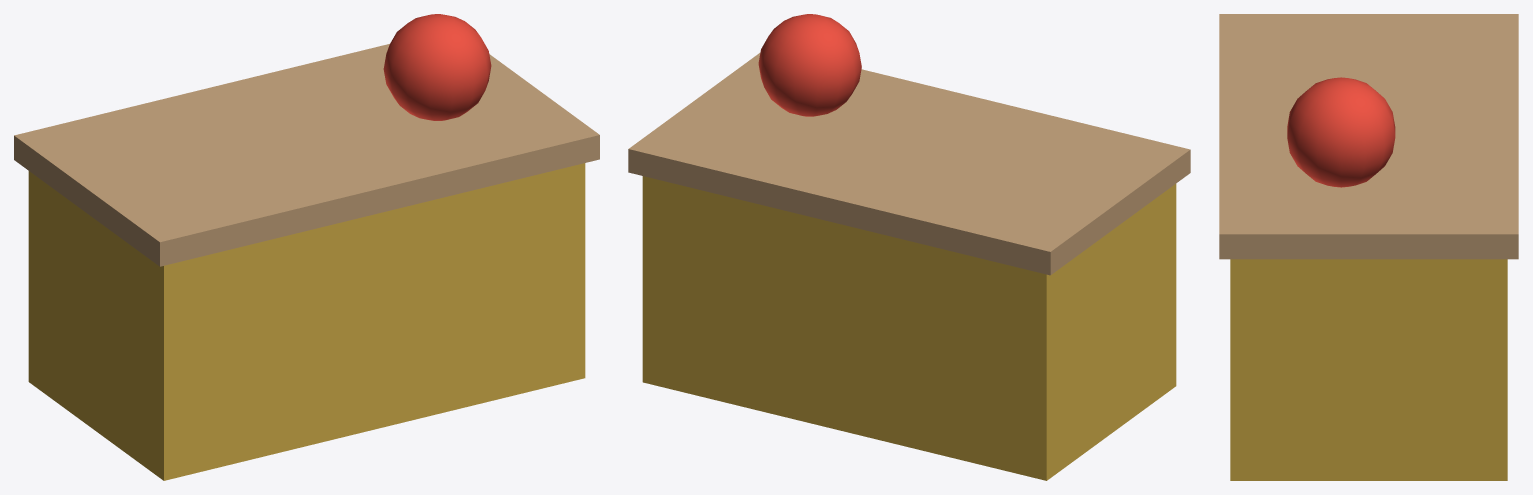
File: toyChest.glb
3 views of the same model, side by side, from view 1: azimuth 30°, elevation 25°; view 2: azimuth 150°, elevation 25°; view 3: azimuth 270°, elevation 25° (orthographic). The views are drawn at different scales.
Visible parts, largest first — view 1: toyChest; view 2: toyChest; view 3: toyChest.
Part boxes in pixels (x1,y1,x2,y2): toyChest: [14, 14, 599, 480]; toyChest: [628, 14, 1190, 480]; toyChest: [1219, 14, 1518, 480].
Bounding box in the file's own units: 0.94 × 0.7 × 0.54.
